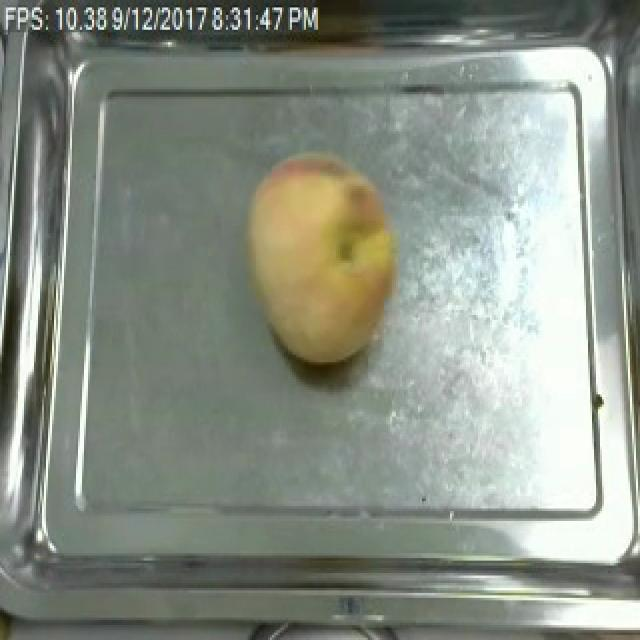Fruit: (236, 146, 408, 370)
